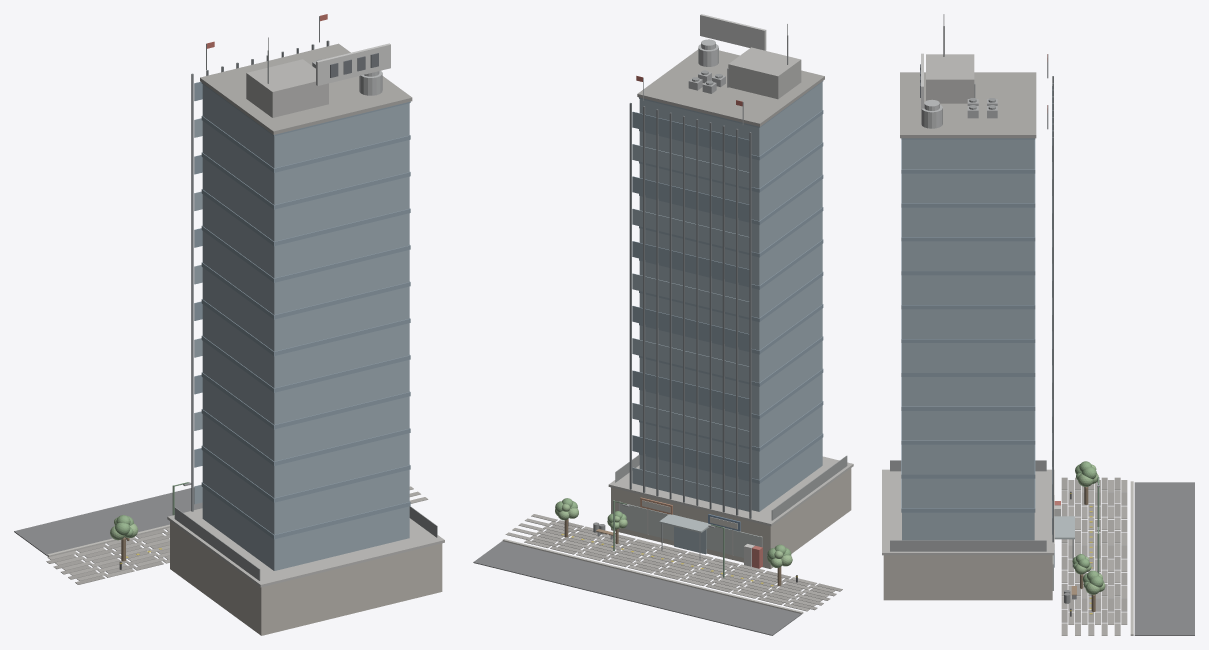
Rendered from office_13.glb.
The picture shows the model from 3 angles, left to right: view 1: azimuth 30°, elevation 25°; view 2: azimuth 150°, elevation 25°; view 3: azimuth 270°, elevation 25°; orthographic projection. The views are drawn at different scales.
Parts seen in each view (by area): view 1: geometry_0; view 2: geometry_0; view 3: geometry_0.
Part boxes in pixels (x1=…): geometry_0: x1=14, y1=14, x2=444, y2=635; geometry_0: x1=473, y1=14, x2=853, y2=635; geometry_0: x1=882, y1=14, x2=1194, y2=635.
Bounding box in the file's own units: 31 × 47.8 × 25.95.
